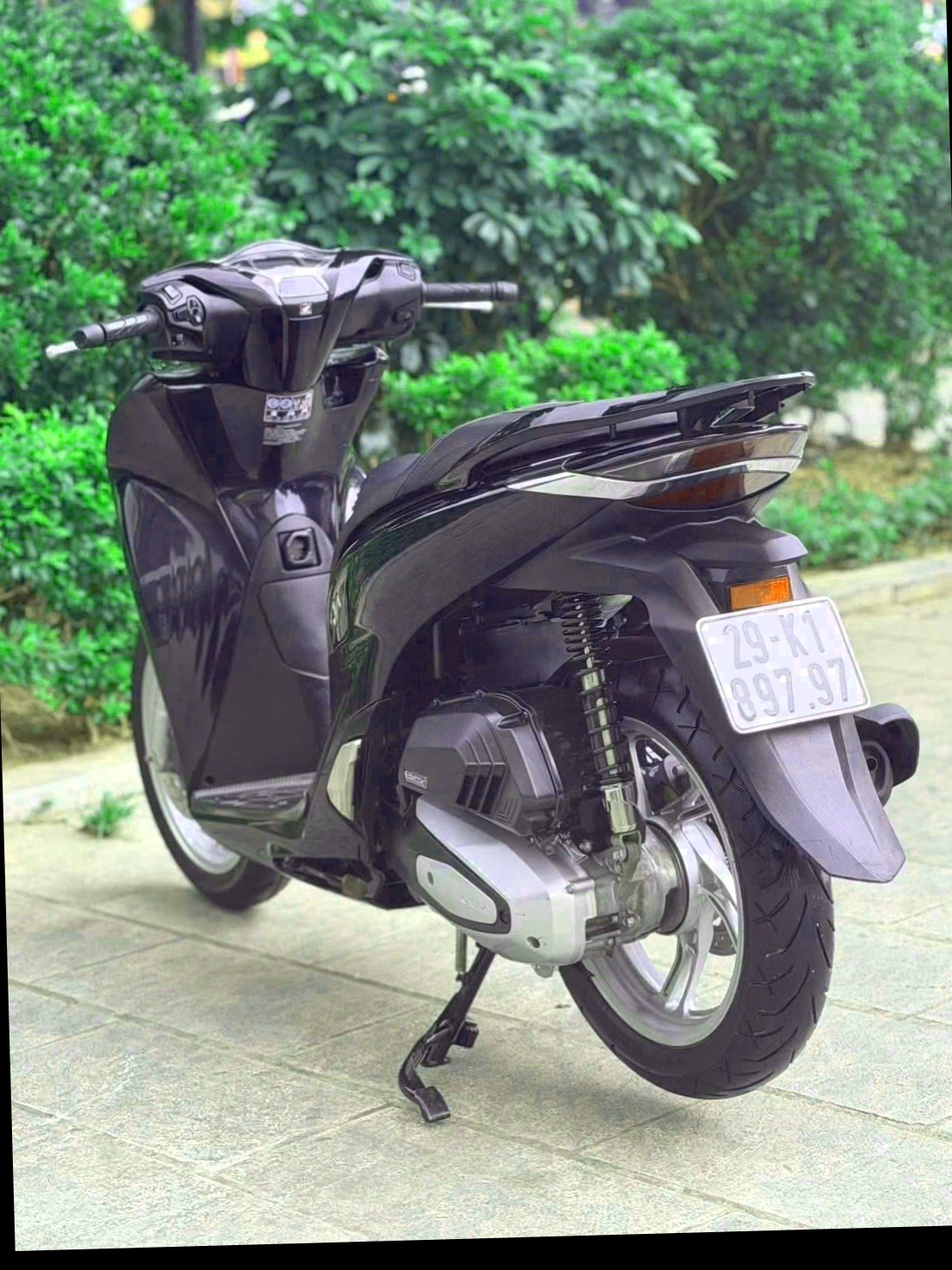Bien-so: (680, 673, 879, 842)
